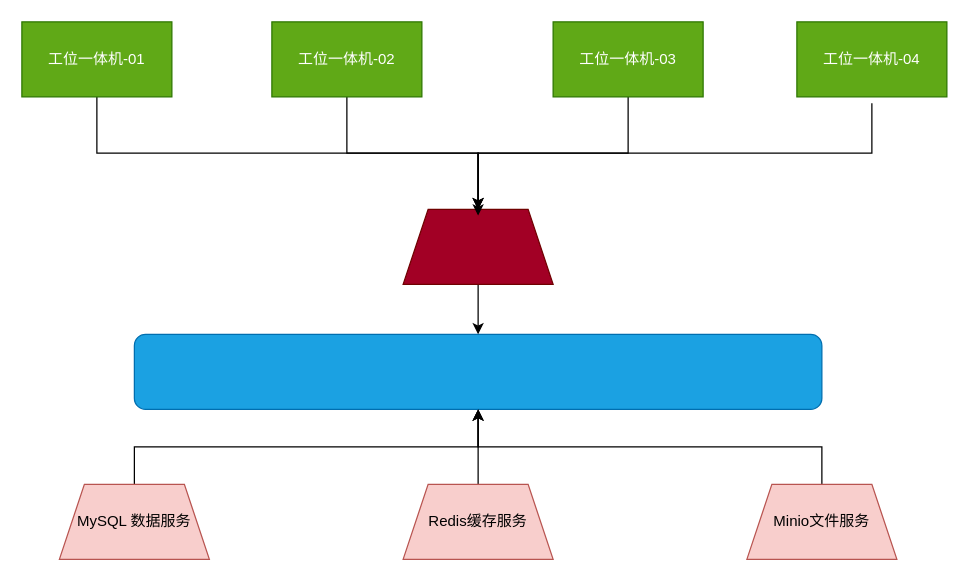
Some shapes in this 969 by 581 pixel diagram are drawn without their labels. The shapes that lost their labels are listed below. From the top down, each one's centre as x and y in pixels, then its label:
pixel 477 246: MQTT Broker
pixel 477 371: MES 主服务
